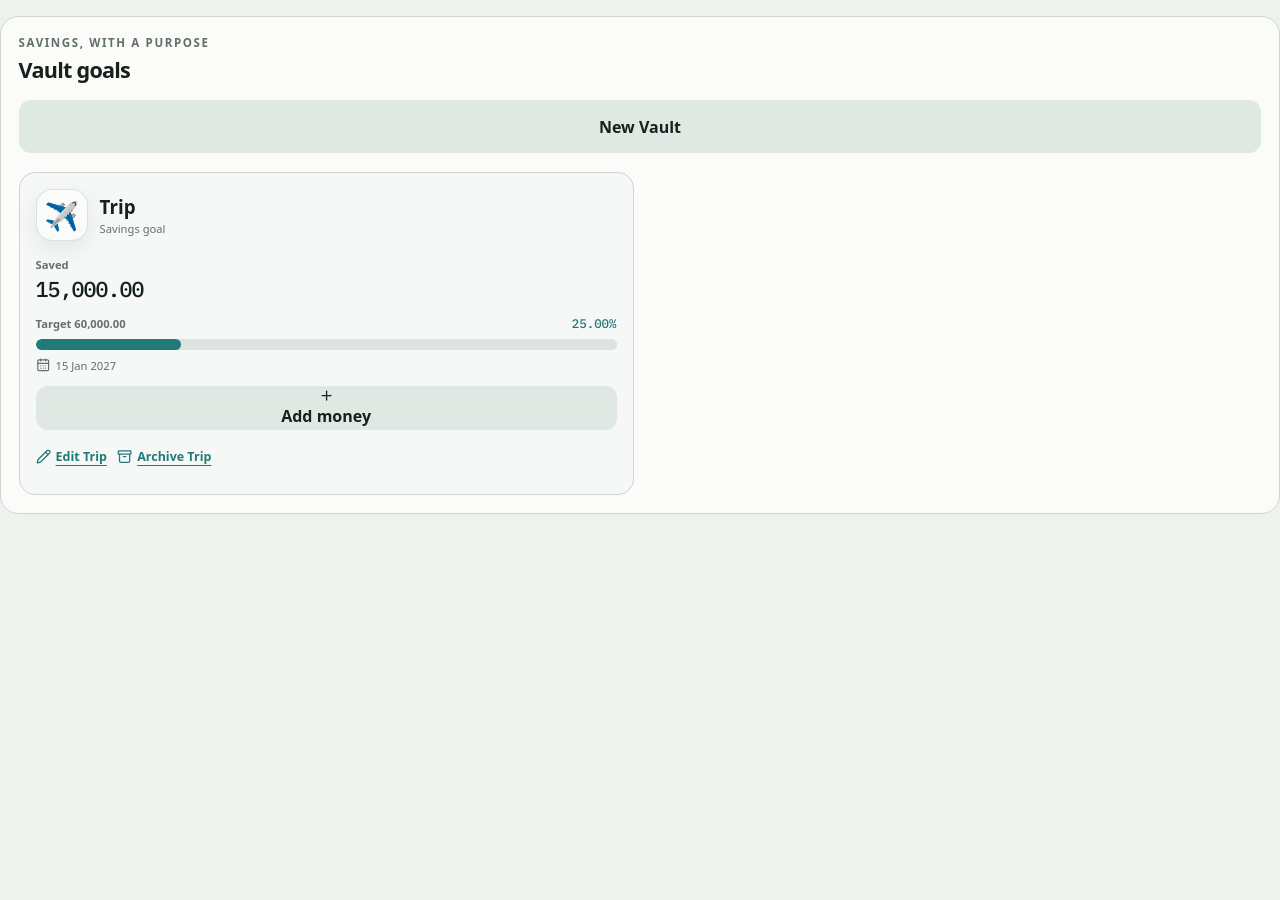
Test case: VaultGoals › closes a completed contribution and reports stale data when refresh fails
Click the button with aria-label "Add money to Trip": (326, 408) x1=36 y1=386 x2=617 y2=430
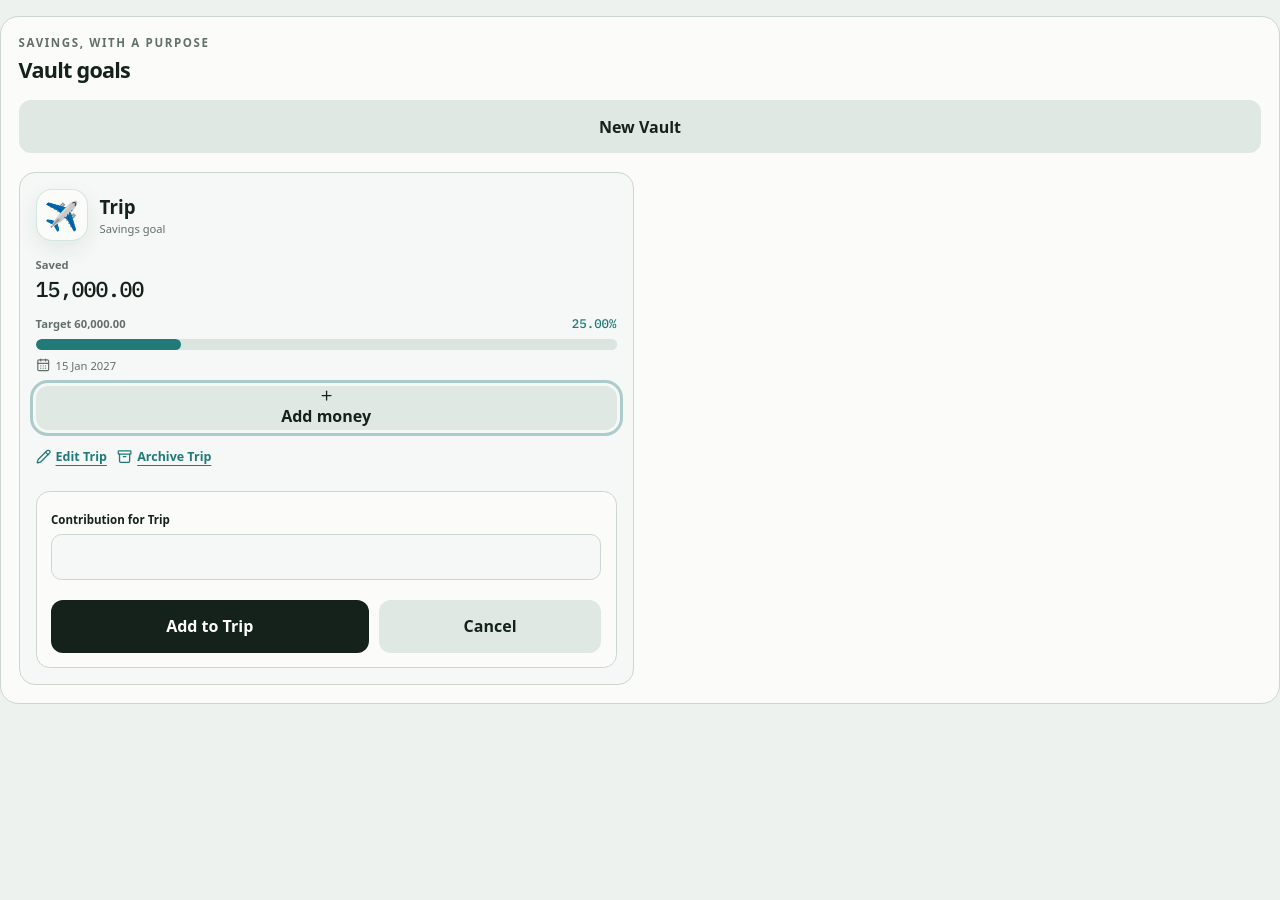
In the field labelled "Contribution for Trip": (326, 557) x1=51 y1=534 x2=601 y2=580, type "5000"
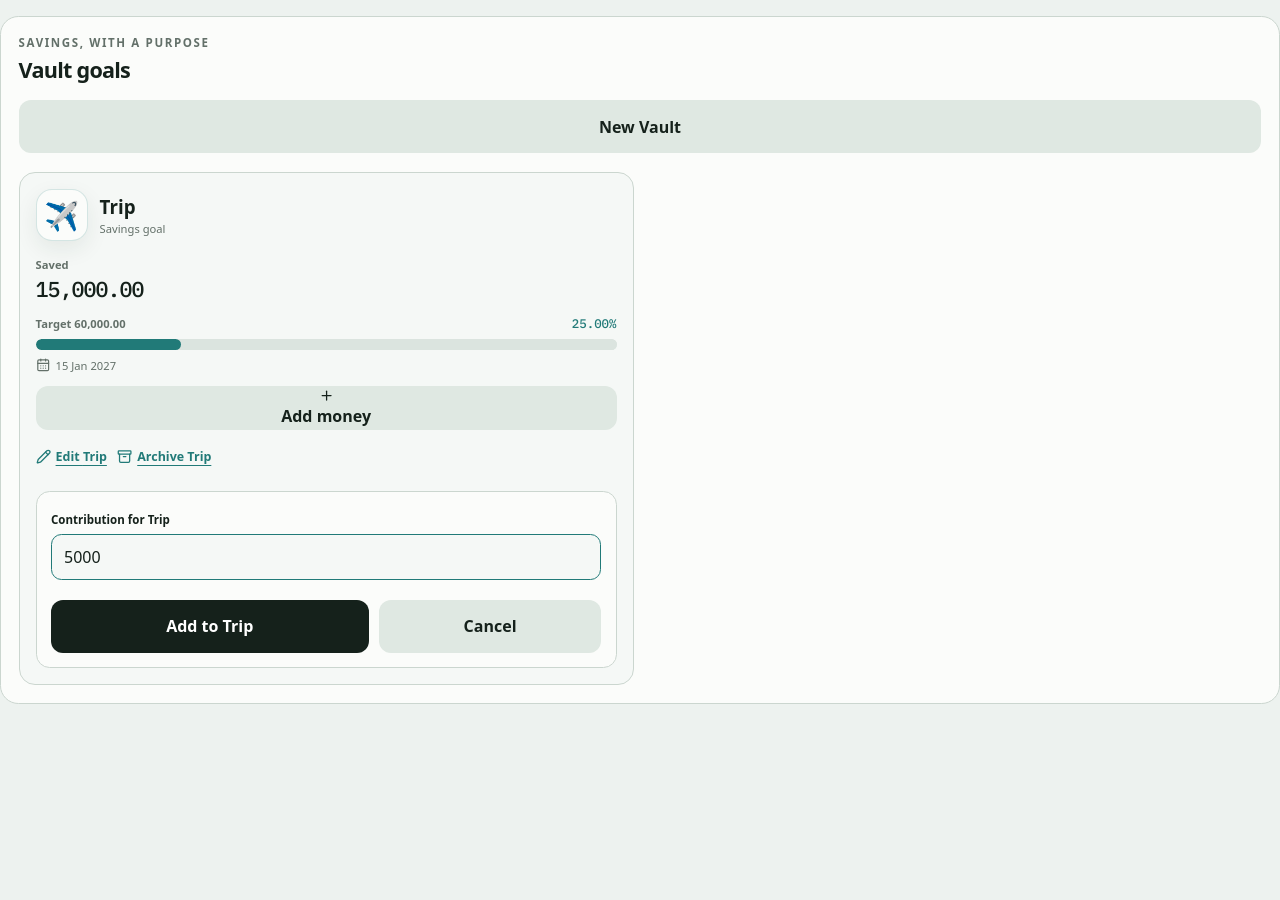
Click the button "Add to Trip": (210, 626) x1=51 y1=600 x2=368 y2=653
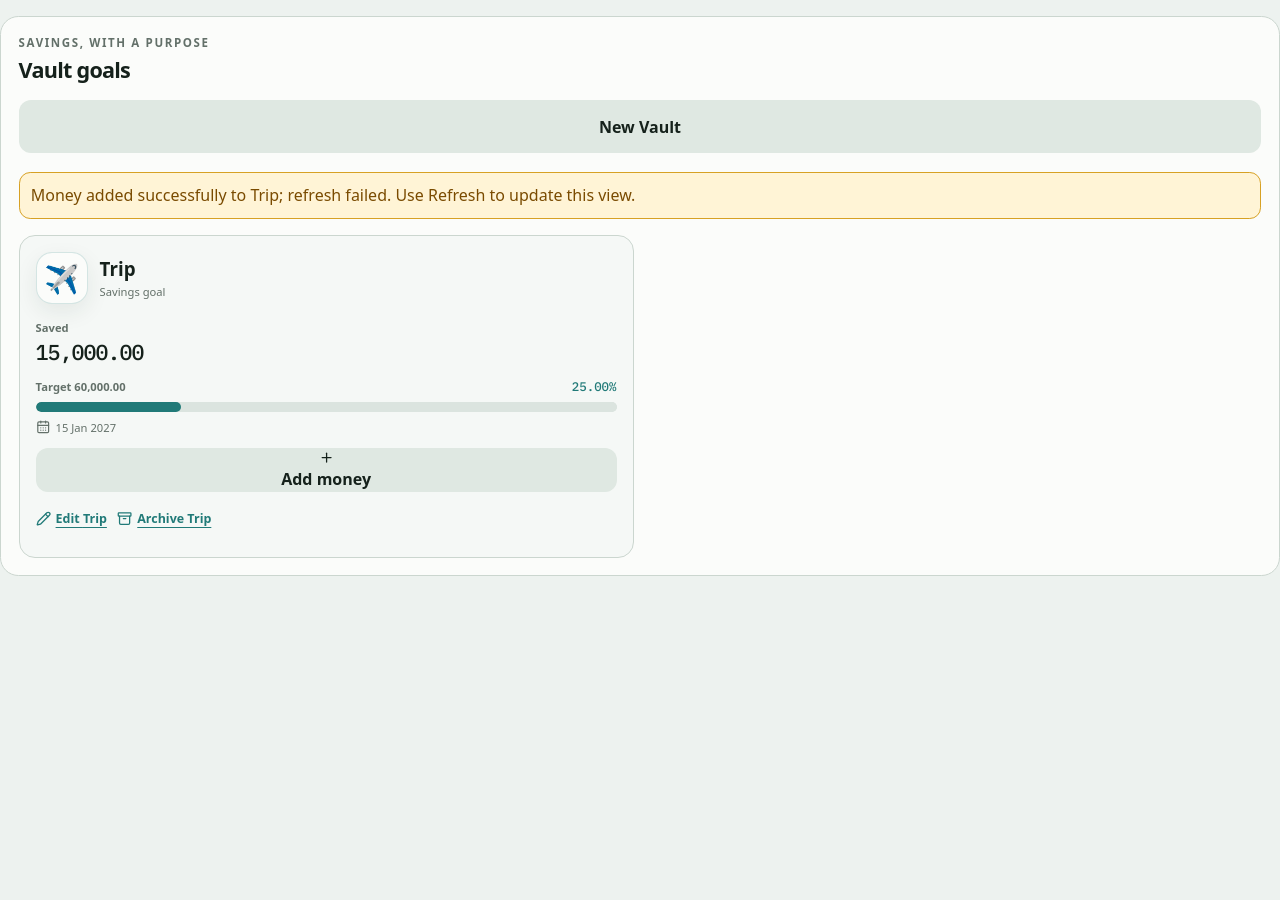
Expected: the label labelled "Contribution for Trip" is gone
